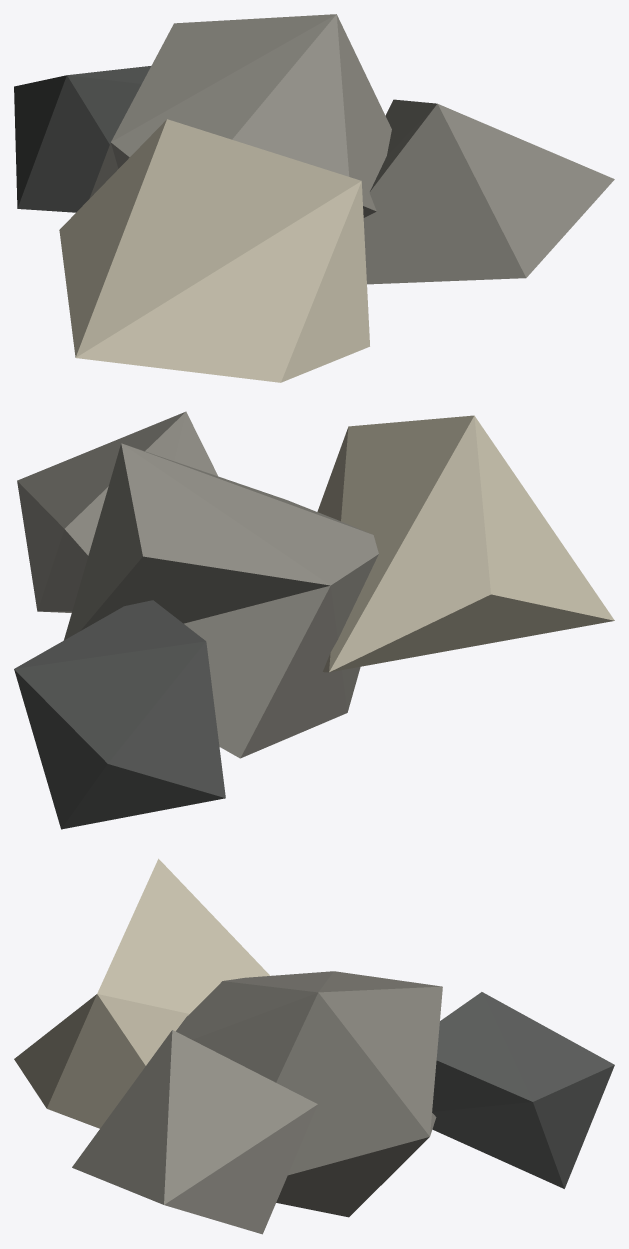
Rendered from rock_4_lod2.glb.
3 views of the same model, one above another, from view 1: azimuth 30°, elevation 25°; view 2: azimuth 150°, elevation 25°; view 3: azimuth 270°, elevation 25° (orthographic). The views are drawn at different scales.
Parts seen in each view (by area): view 1: rock_4_lod2; view 2: rock_4_lod2; view 3: rock_4_lod2.
Part boxes in pixels (x1,y1,x2,y2): rock_4_lod2: (14,14,614,382); rock_4_lod2: (14,411,614,829); rock_4_lod2: (14,858,614,1234).
Bounding box in the file's own units: 1.67 × 0.8416 × 1.73.
